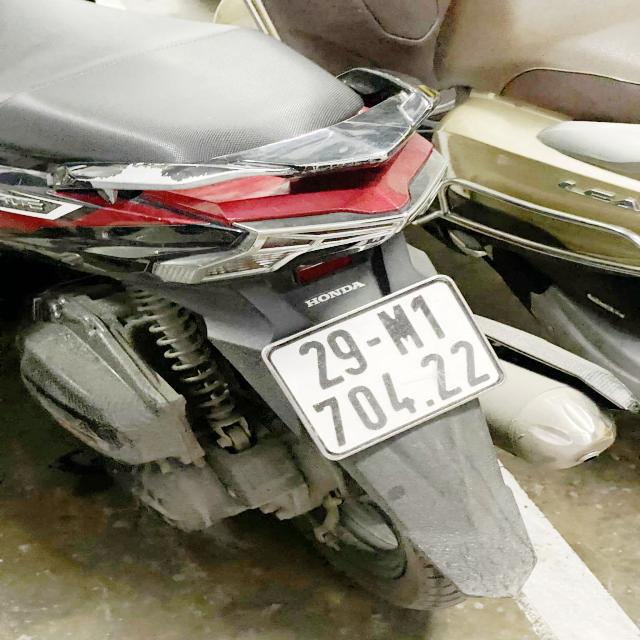license_plate: (255, 267, 516, 467)
